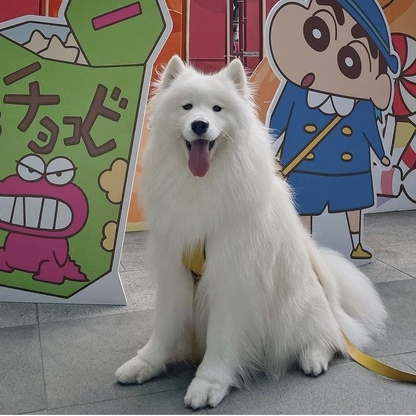samoyed: (110, 51, 392, 411)
